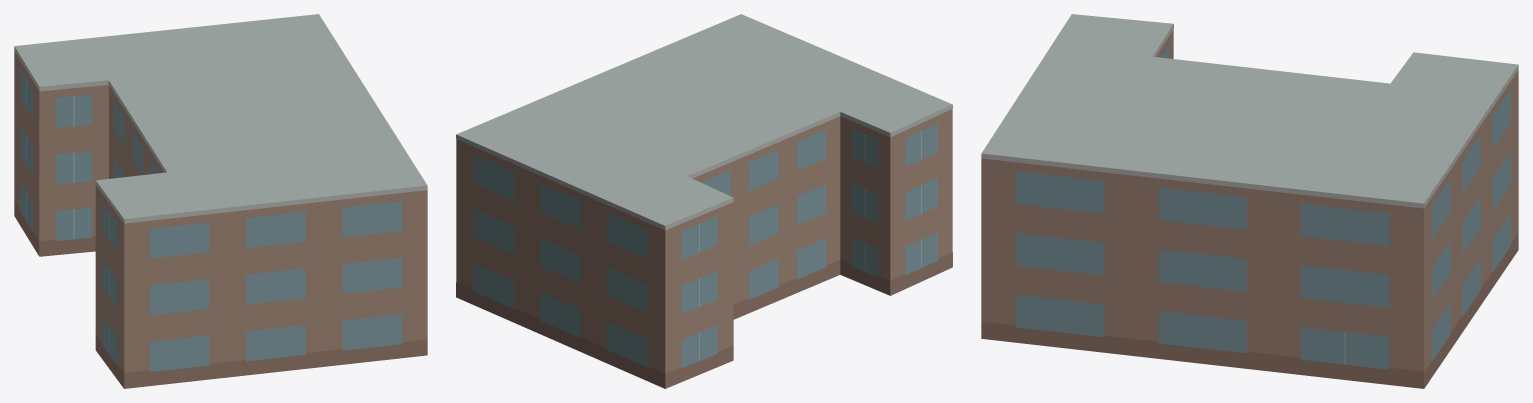
File: survey-upis-32957103.glb
3 views of the same model, side by side, from view 1: azimuth 30°, elevation 25°; view 2: azimuth 150°, elevation 25°; view 3: azimuth 270°, elevation 25° (orthographic). The views are drawn at different scales.
Visible parts, largest first — view 1: survey-upis-32957103.tmp; view 2: survey-upis-32957103.tmp; view 3: survey-upis-32957103.tmp.
Part boxes in pixels (left/top/right/bottom): survey-upis-32957103.tmp: left=14, top=14, right=427, bottom=388; survey-upis-32957103.tmp: left=456, top=14, right=952, bottom=388; survey-upis-32957103.tmp: left=981, top=14, right=1518, bottom=388.
Size of the model in its own units: 20.09 by 9.15 by 24.06.
